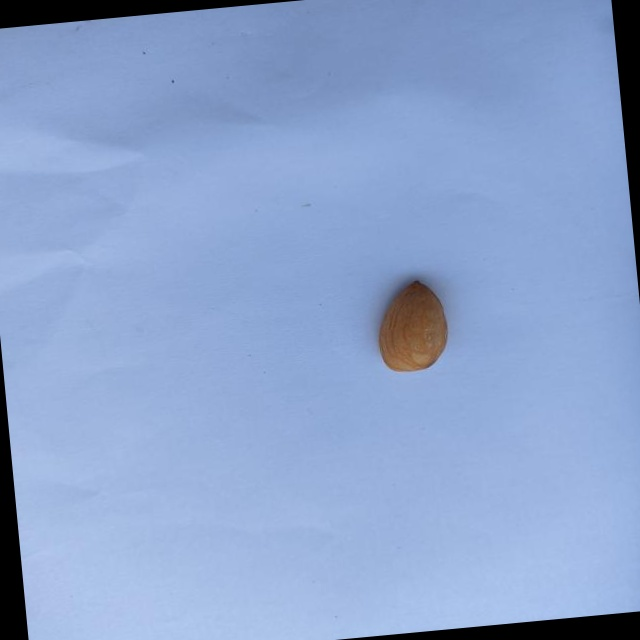grade2: (366, 275, 455, 378)
